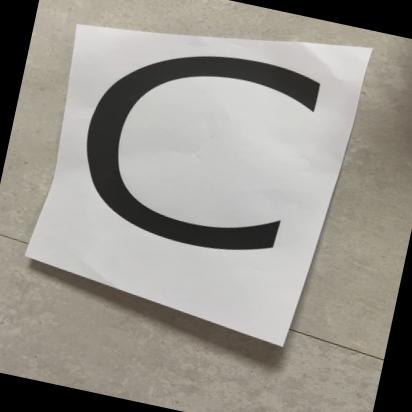seat: (22, 0, 392, 355)
